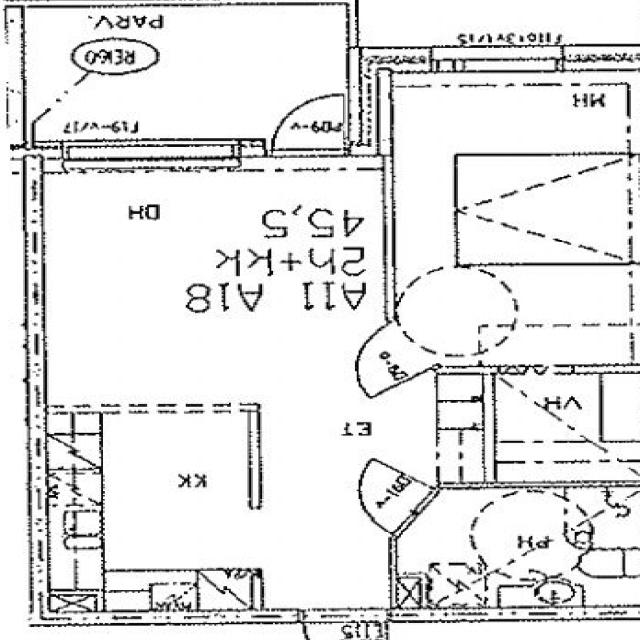door: (330, 320, 437, 399), (332, 458, 439, 536), (270, 86, 344, 156), (303, 610, 387, 640)
